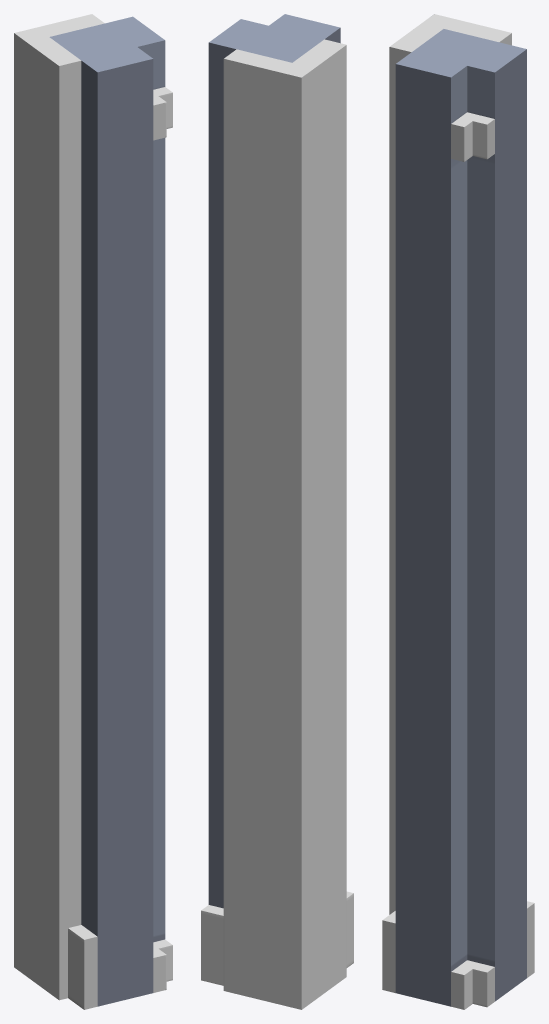
File: office_pack_demoRoom_corner.fbx
3 views of the same model, side by side, from view 1: azimuth 30°, elevation 25°; view 2: azimuth 150°, elevation 25°; view 3: azimuth 330°, elevation 25° (orthographic).
Parts seen in each view (by area): view 1: office_pack_demoRoom_corner; view 2: office_pack_demoRoom_corner; view 3: office_pack_demoRoom_corner.
Boxes of the visible parts, box(x1,y1,x2,y2) form: office_pack_demoRoom_corner: box(14, 14, 172, 1009); office_pack_demoRoom_corner: box(201, 14, 353, 1009); office_pack_demoRoom_corner: box(382, 14, 534, 1009).
Size of the model in its own units: 23.75 by 200 by 23.75.
